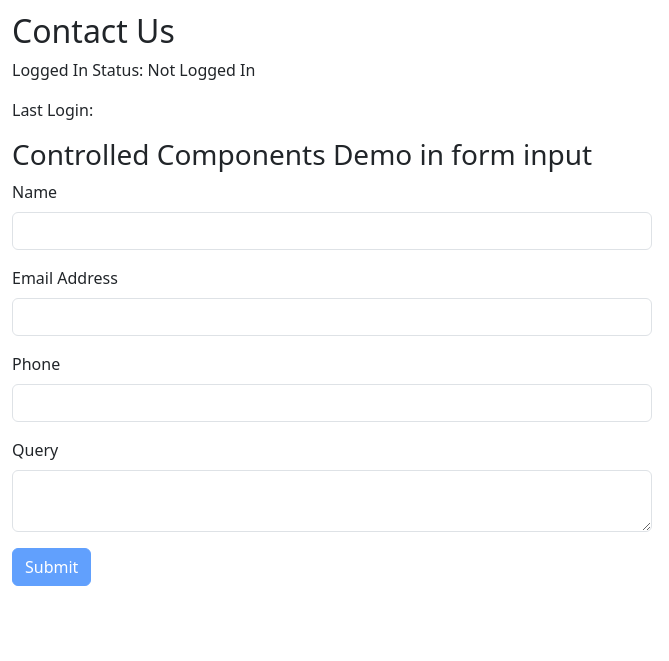
Test case: ContactUsPage › submits the form with valid input
Type "a" into the field labelled "Name".
click(332, 231); type("a")  # box [12,212,652,250]
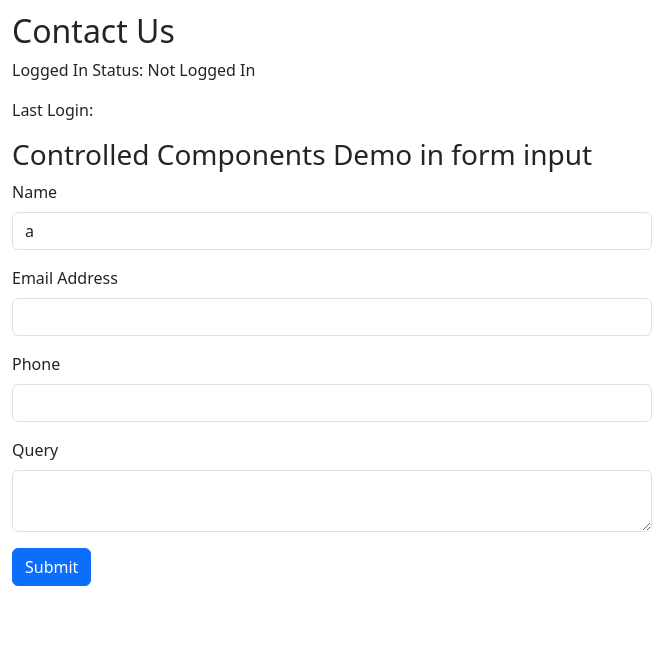
Type "a@b.com" into the field labelled "Email Address".
click(332, 317); type("a@b.com")  # box [12,298,652,336]
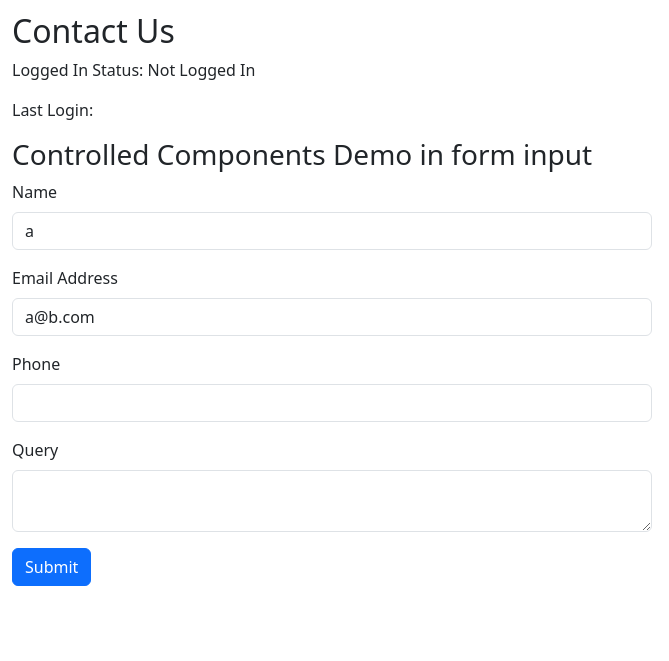
Type "2727272727" into the field labelled "Phone".
click(332, 403); type("2727272727")  # box [12,384,652,422]
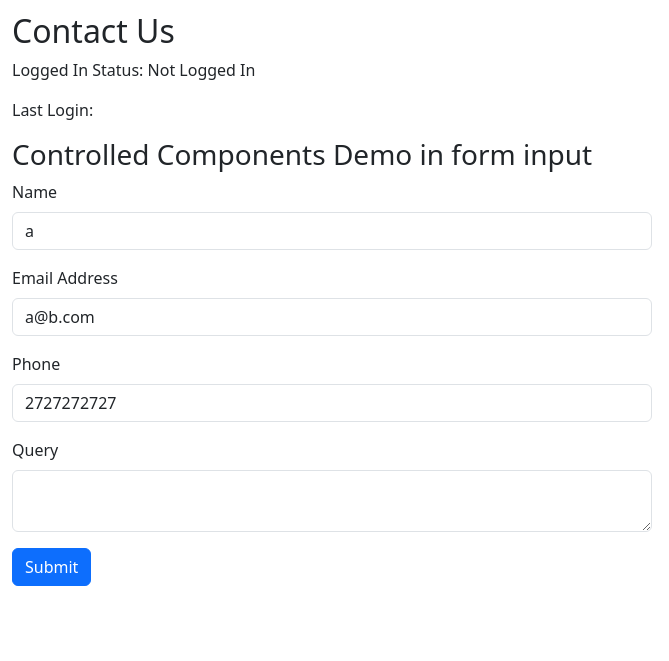
Type "Great App" into the text box labelled "Query".
click(332, 501); type("Great App")  # box [12,470,652,532]
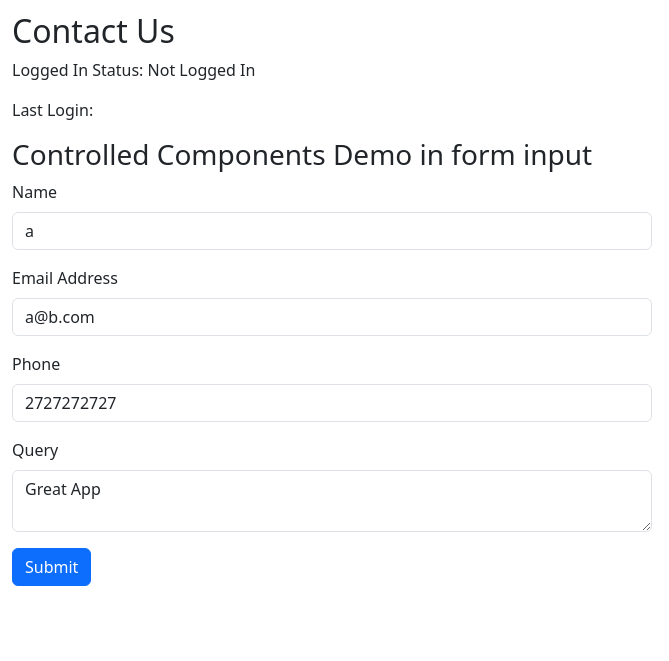
Click the button "Submit".
click(52, 567)  # box [12,548,91,586]
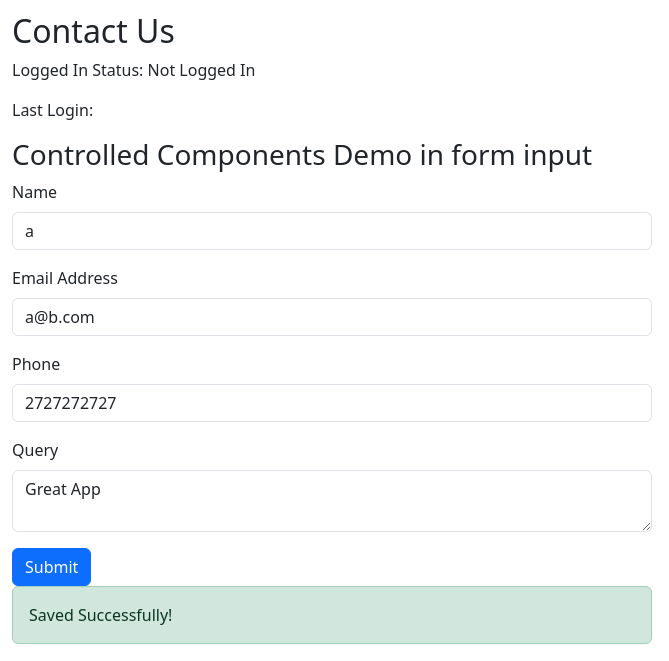
Check: the text "Saved Successfully!" is shown, box [12,586,652,644]
